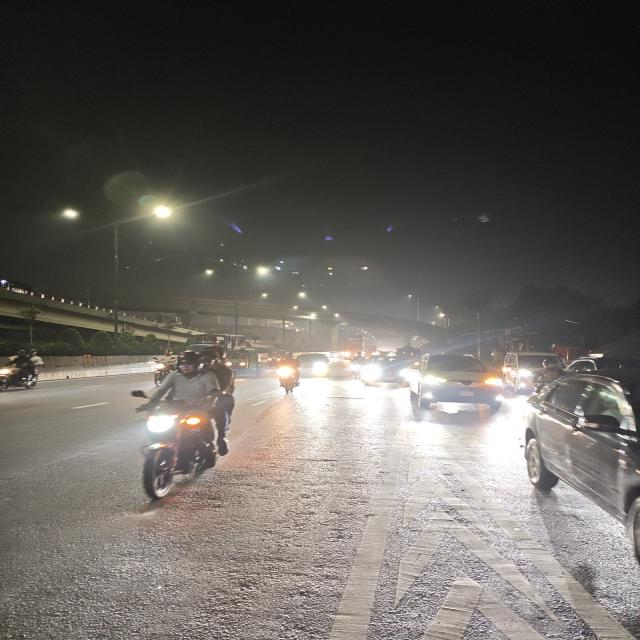car: (518, 367, 640, 592), (403, 351, 508, 417), (360, 347, 418, 387), (291, 350, 332, 378)
cng: (224, 345, 269, 377)
motorcycle: (113, 352, 245, 520), (0, 349, 49, 393), (270, 353, 306, 399)
